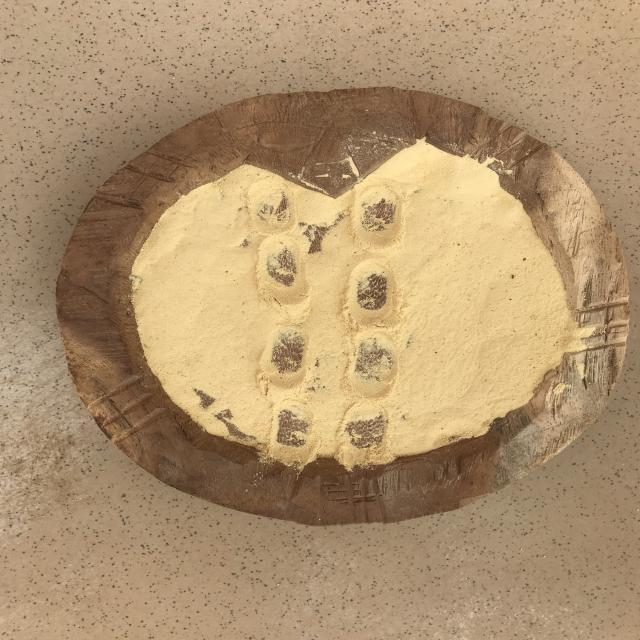single: (338, 325, 406, 405), (254, 231, 318, 315), (262, 392, 323, 468), (254, 320, 318, 392), (342, 256, 402, 327), (354, 180, 412, 253), (336, 401, 397, 466), (244, 176, 304, 236)
